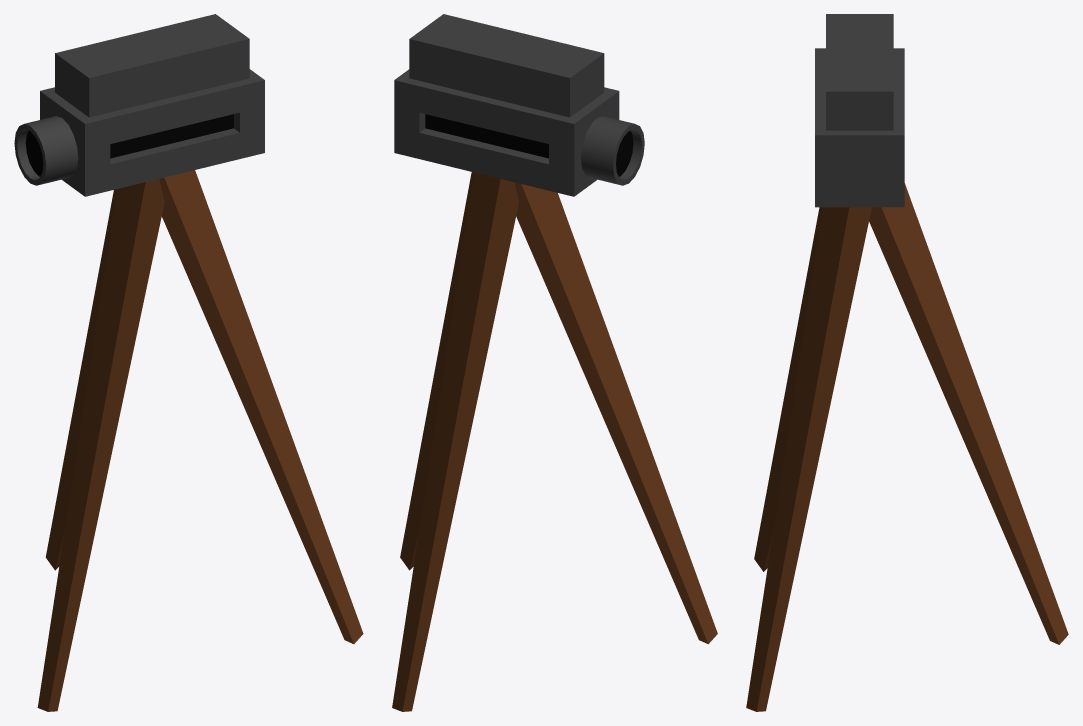
File: CameraStand.fbx
3 renders of one model, left to right at view 1: azimuth 30°, elevation 25°; view 2: azimuth 150°, elevation 25°; view 3: azimuth 270°, elevation 25°, orthographic.
Visible parts, largest first — view 1: Cloner, Cylinder; view 2: Cloner, Cylinder; view 3: Cloner, Cylinder.
Part boxes in pixels (x1,y1,x2,y2): Cloner: (37,170,363,711); Cylinder: (14,14,264,196); Cloner: (392,172,717,711); Cylinder: (394,14,644,196); Cloner: (746,183,1068,711); Cylinder: (815,14,904,207).
Size of the model in its own units: 131 by 235 by 117.
